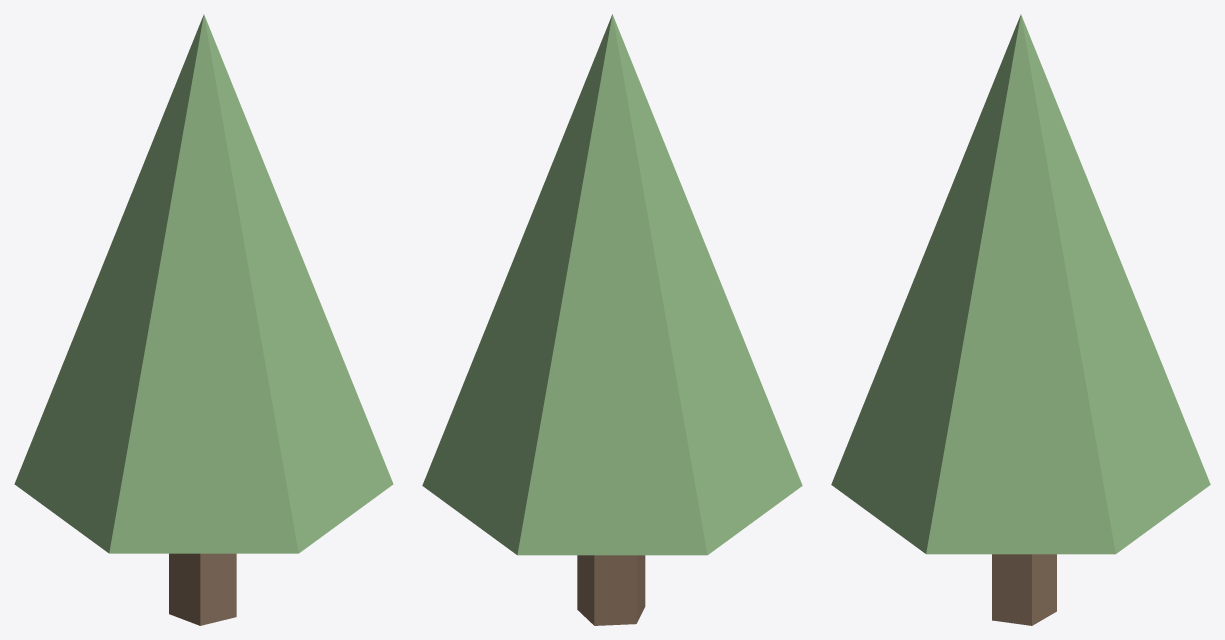
Rendered from tree_cone.glb.
3 renders of one model, left to right at view 1: azimuth 30°, elevation 25°; view 2: azimuth 150°, elevation 25°; view 3: azimuth 270°, elevation 25°, orthographic.
Parts seen in each view (by area): view 1: tree_cone; view 2: tree_cone; view 3: tree_cone.
Boxes of the visible parts, <box> form: tree_cone: <box>14,14,393,625</box>; tree_cone: <box>422,14,802,625</box>; tree_cone: <box>831,14,1210,625</box>.
Size of the model in its own units: 1.65 by 3.3 by 1.9.
